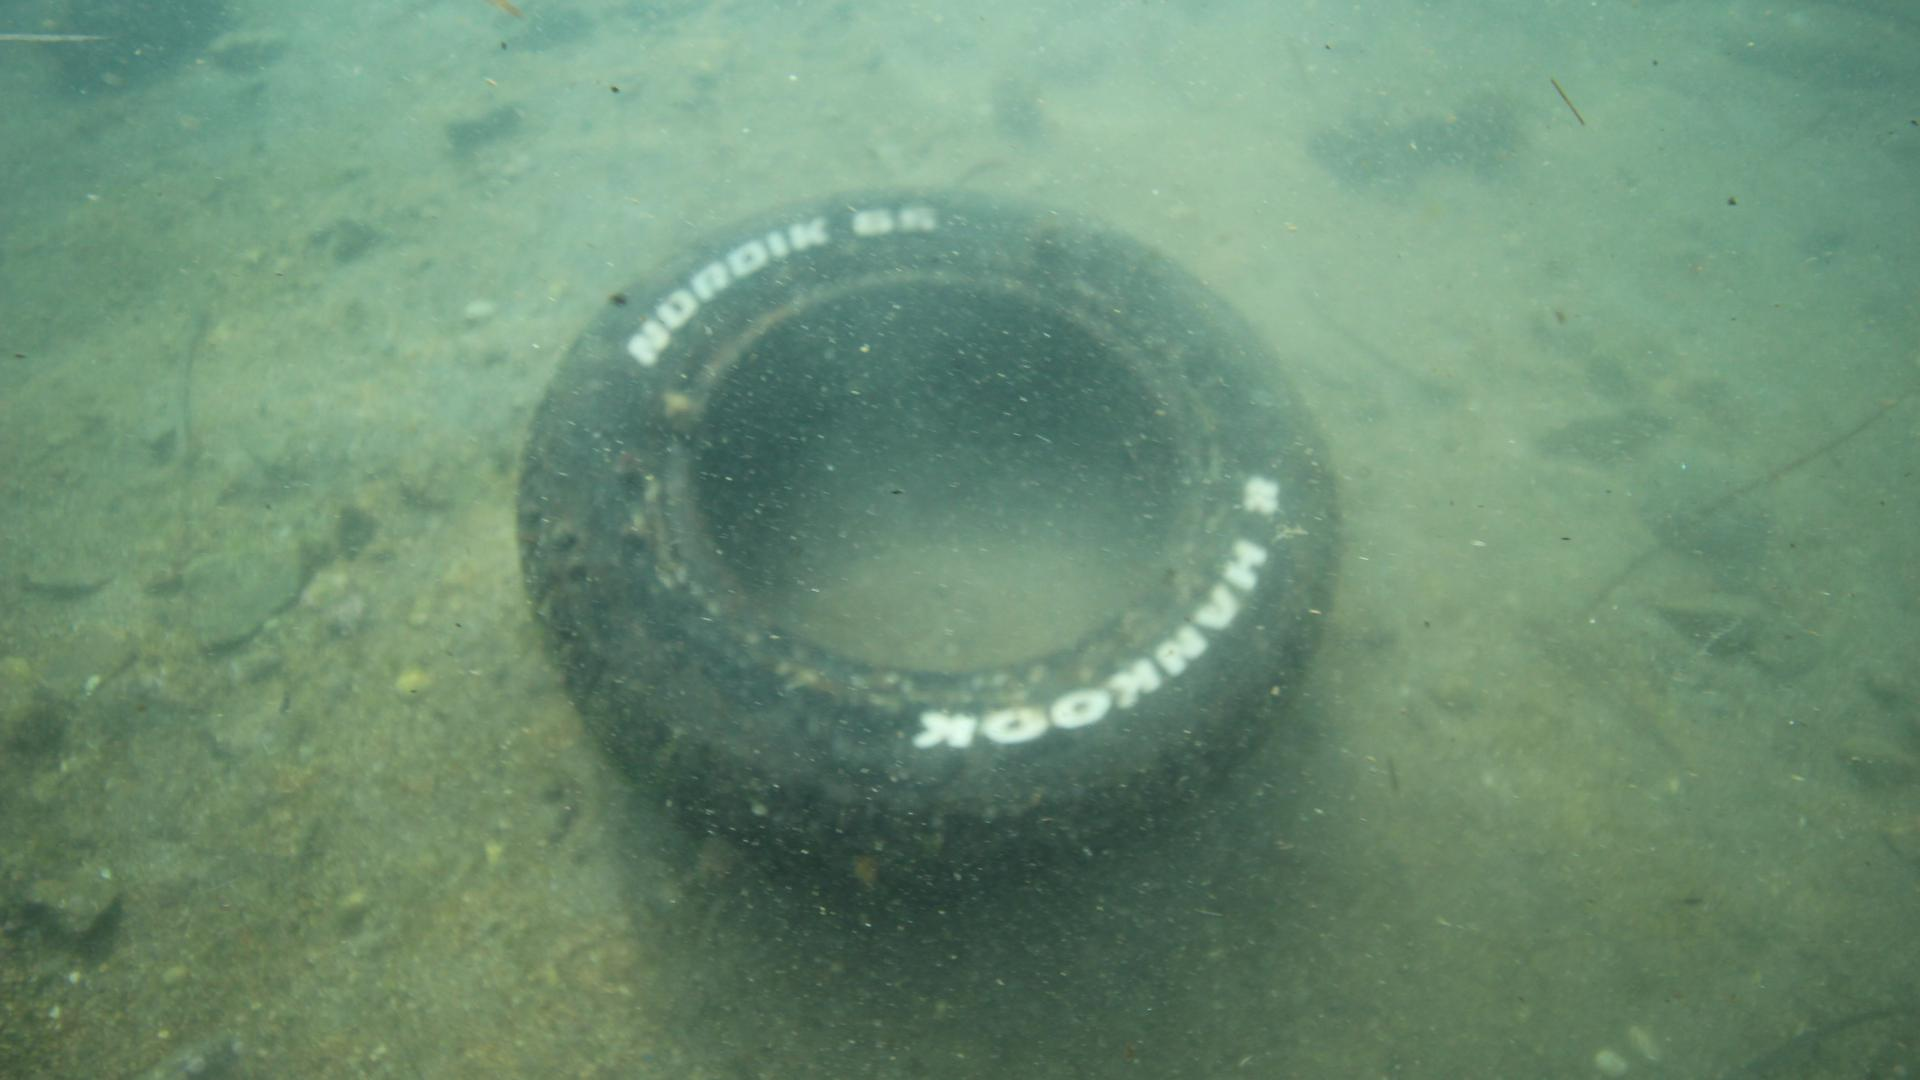tire: (516, 187, 1335, 899)
